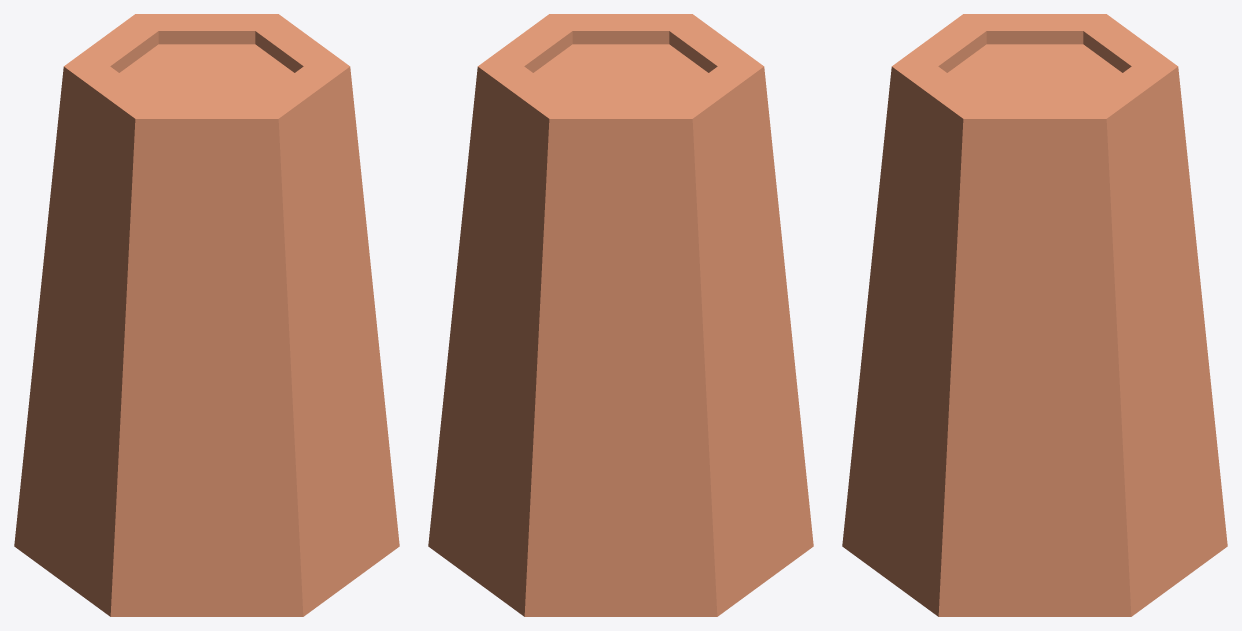
The model's file is bueno4.obj.
The picture shows the model from 3 angles, left to right: view 1: azimuth 30°, elevation 25°; view 2: azimuth 150°, elevation 25°; view 3: azimuth 270°, elevation 25°; orthographic projection.
Parts seen in each view (by area): view 1: Pine_stump_1; view 2: Pine_stump_1; view 3: Pine_stump_1.
Part boxes in pixels (box(x1,y1,x2,y2)): Pine_stump_1: box(14, 14, 399, 616); Pine_stump_1: box(428, 14, 813, 616); Pine_stump_1: box(842, 14, 1227, 616).
Size of the model in its own units: 0.8216 by 1.3 by 0.9487.
